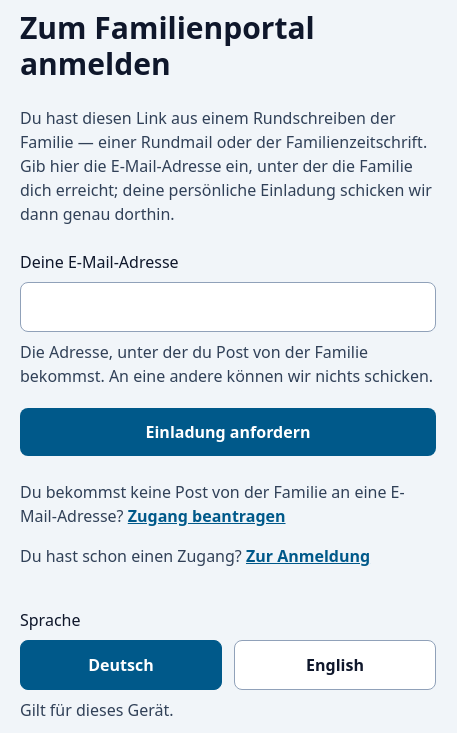
Test: answering the letter that went to a mailing list › sends the address the reader typed, with the campaign from the link
Type "anna@example.test" into the field labelled "Deine E-Mail-Adresse".
click(228, 307); type("anna@example.test")  # box x1=20 y1=282 x2=436 y2=332
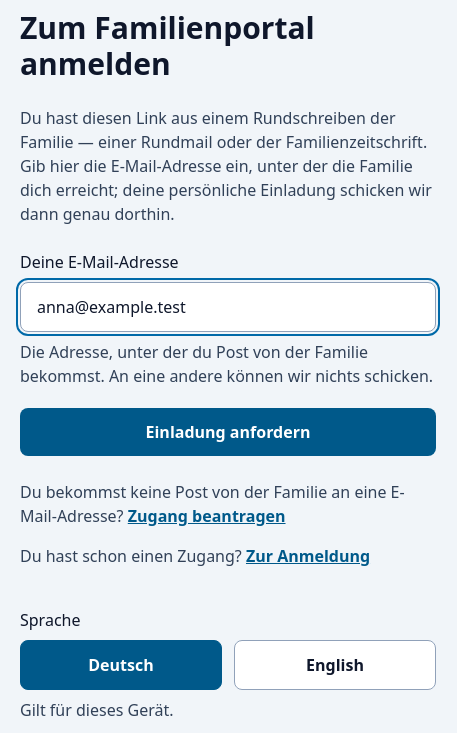
Click the button "Einladung anfordern".
click(228, 432)  # box x1=20 y1=408 x2=436 y2=456
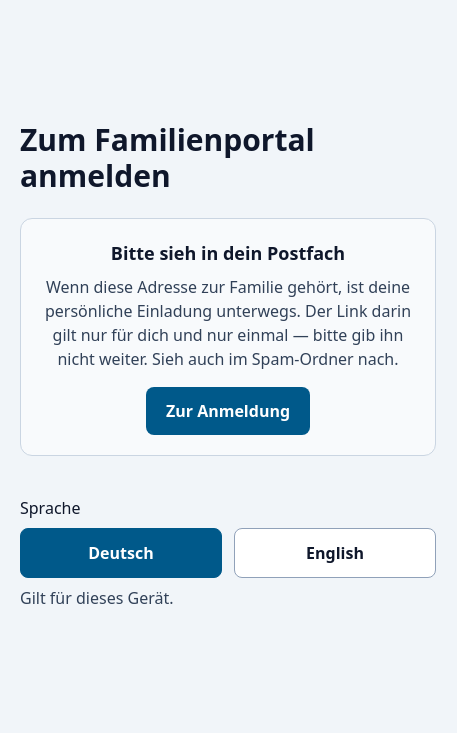
Result: the text "Bitte sieh in dein Postfach" is shown at x1=111 y1=241 x2=345 y2=265
